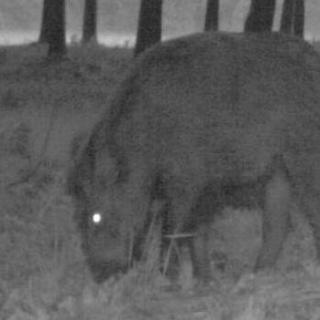Pig: (49, 24, 320, 317)
